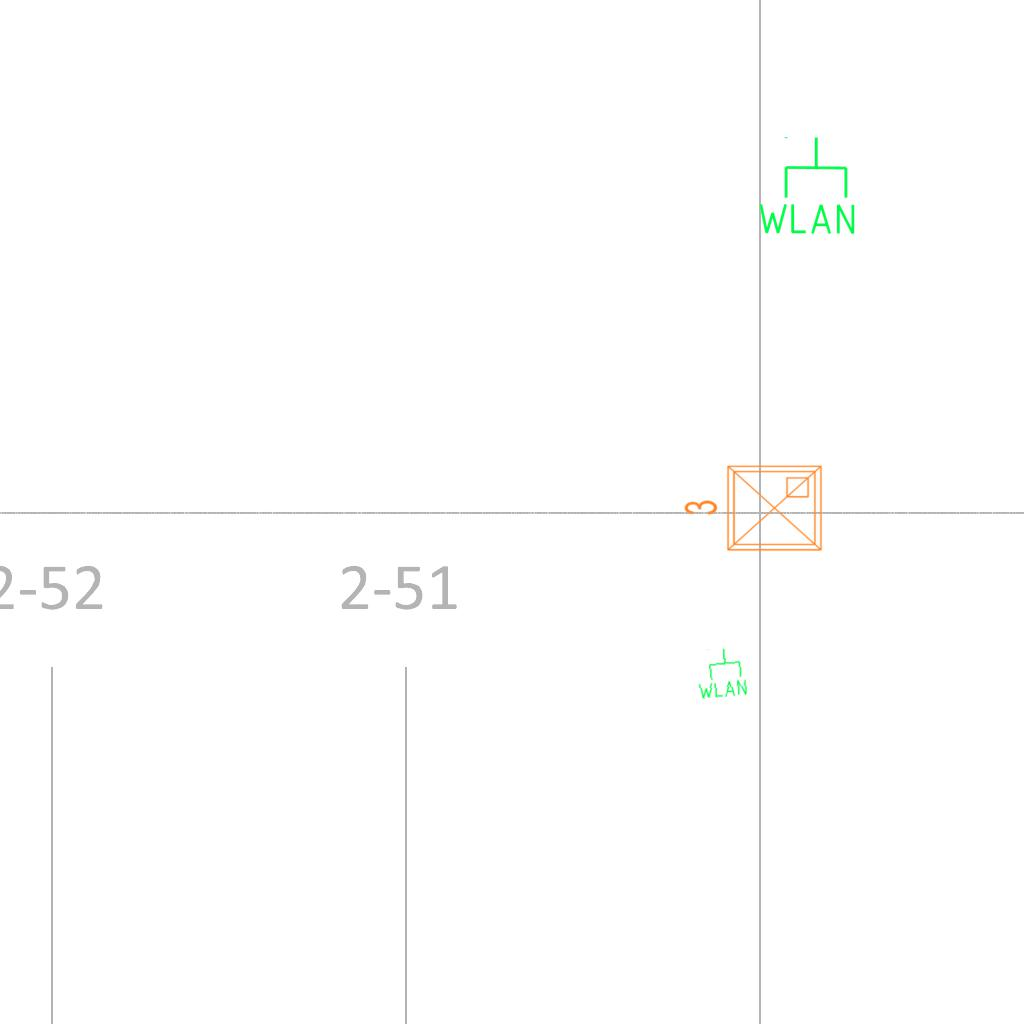Einbaudownlights_LED_Konferenzraeume: (679, 458, 829, 562)
WLAN: (754, 134, 859, 238), (692, 644, 750, 702)
